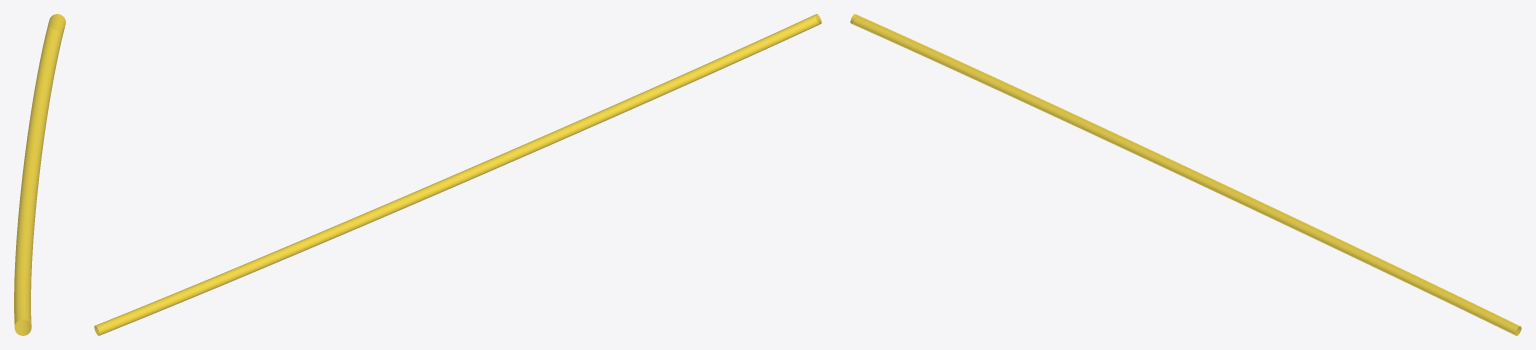
Rendered from Event_419990632_track_29.fbx.
3 renders of one model, left to right at view 1: azimuth 90°, elevation 25°; view 2: azimuth 210°, elevation 25°; view 3: azimuth 330°, elevation 25°, orthographic. The views are drawn at different scales.
Parts seen in each view (by area): view 1: Model; view 2: Model; view 3: Model.
Part boxes in pixels (box(x1,y1,x2,y2)): Model: box(14, 14, 65, 335); Model: box(94, 14, 821, 335); Model: box(850, 14, 1521, 335).
Size of the model in its own units: 2.97 by 0.6228 by 0.1224.
